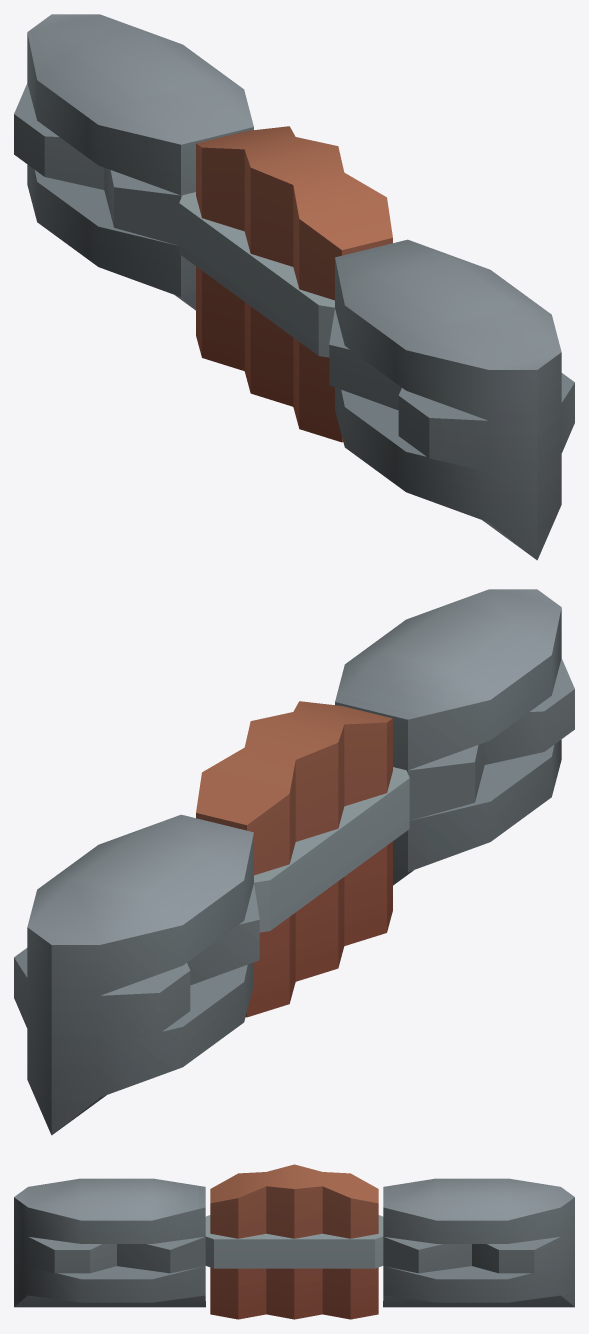
File: kaykit-medieval-hexagon-pack-fence-stone-straight-gate.glb
3 views of the same model, one above another, from view 1: azimuth 30°, elevation 25°; view 2: azimuth 150°, elevation 25°; view 3: azimuth 270°, elevation 25° (orthographic). The views are drawn at different scales.
Parts seen in each view (by area): view 1: fence_stone_straight_gate, fence_stone_straight_door; view 2: fence_stone_straight_gate, fence_stone_straight_door; view 3: fence_stone_straight_gate, fence_stone_straight_door.
Boxes of the visible parts, x1=… form: fence_stone_straight_gate: x1=14, y1=14, x2=574, y2=560; fence_stone_straight_door: x1=179, y1=126, x2=392, y2=442; fence_stone_straight_gate: x1=14, y1=589, x2=574, y2=1135; fence_stone_straight_door: x1=196, y1=701, x2=409, y2=1017; fence_stone_straight_gate: x1=14, y1=1178, x2=574, y2=1307; fence_stone_straight_door: x1=205, y1=1164, x2=383, y2=1319.
Bounding box in the file's own units: 0.2 × 0.2963 × 1.15.
Materials: 1 (1 with a texture image).
